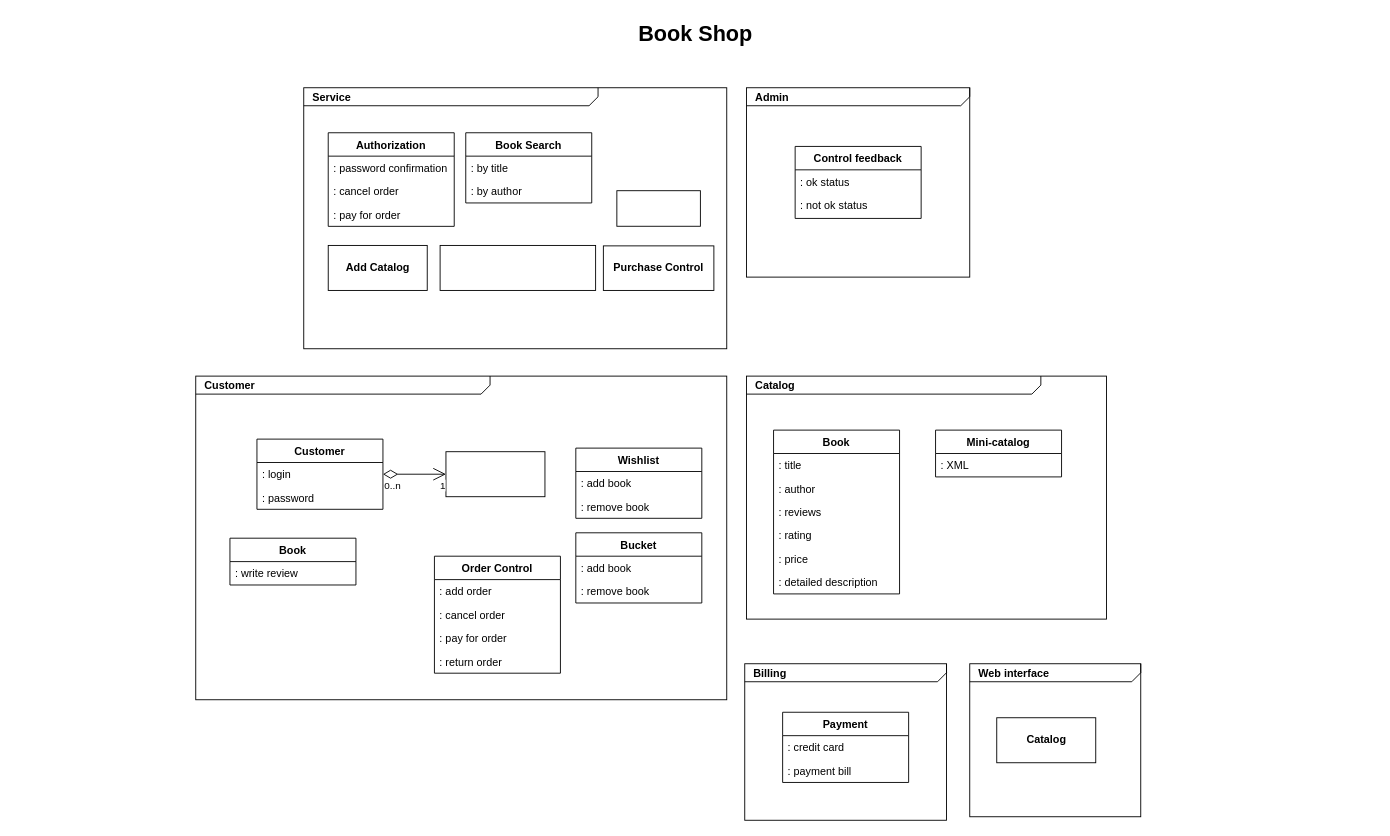
The diagram is 1390 pixels wide and 836 high, and some of its shapes have lost their labels. Each missing label, with the centre of its shape:
"Contact" belongs at point (495, 474).
"Control User Account" belongs at point (517, 267).
"Load Control" belongs at point (658, 208).
